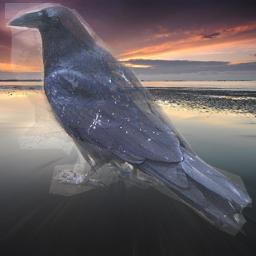Crow: (5, 3, 252, 236)
